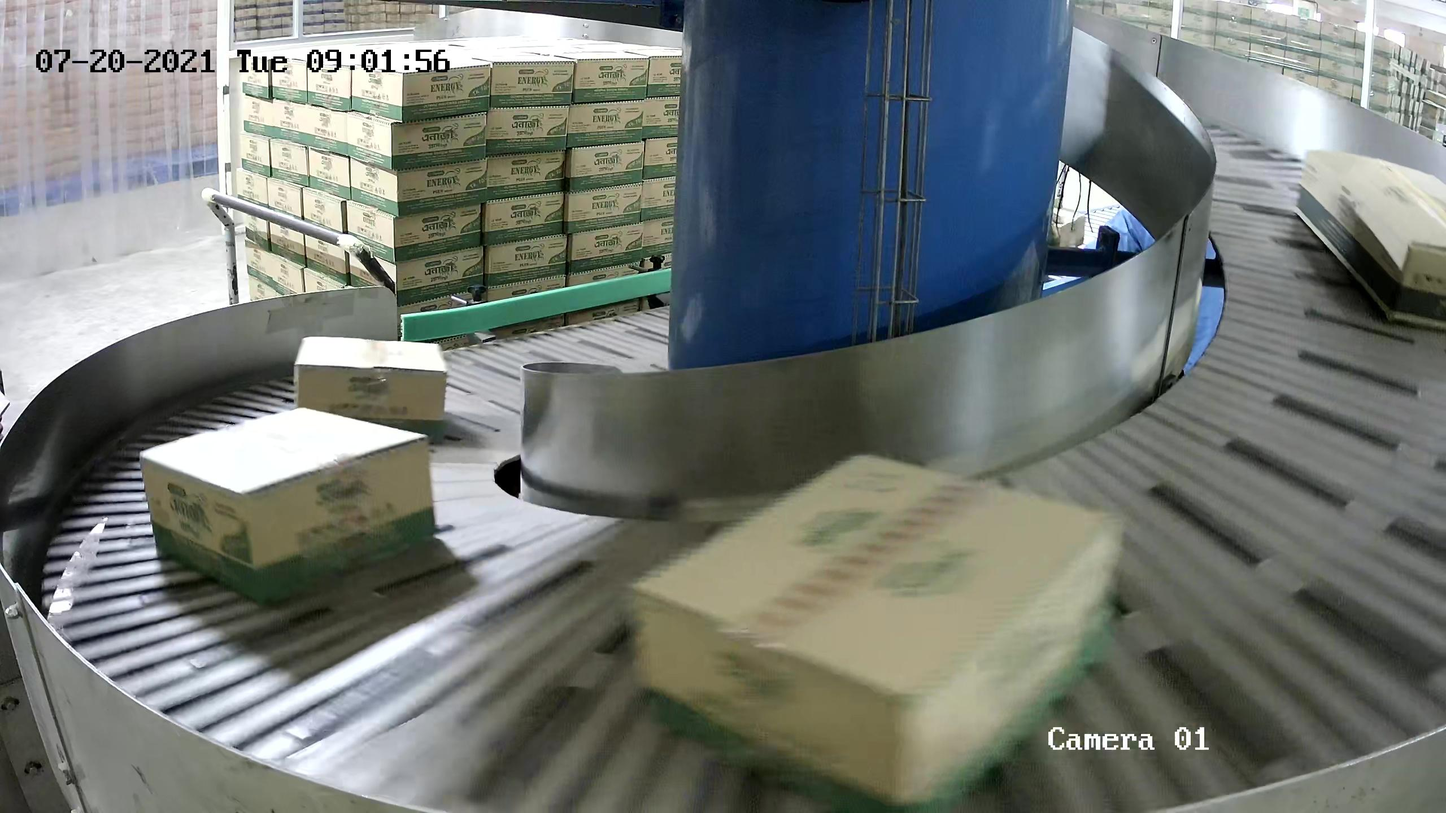Box: (624, 448, 1126, 813), (138, 404, 438, 609), (1293, 147, 1446, 332), (293, 333, 448, 444)
